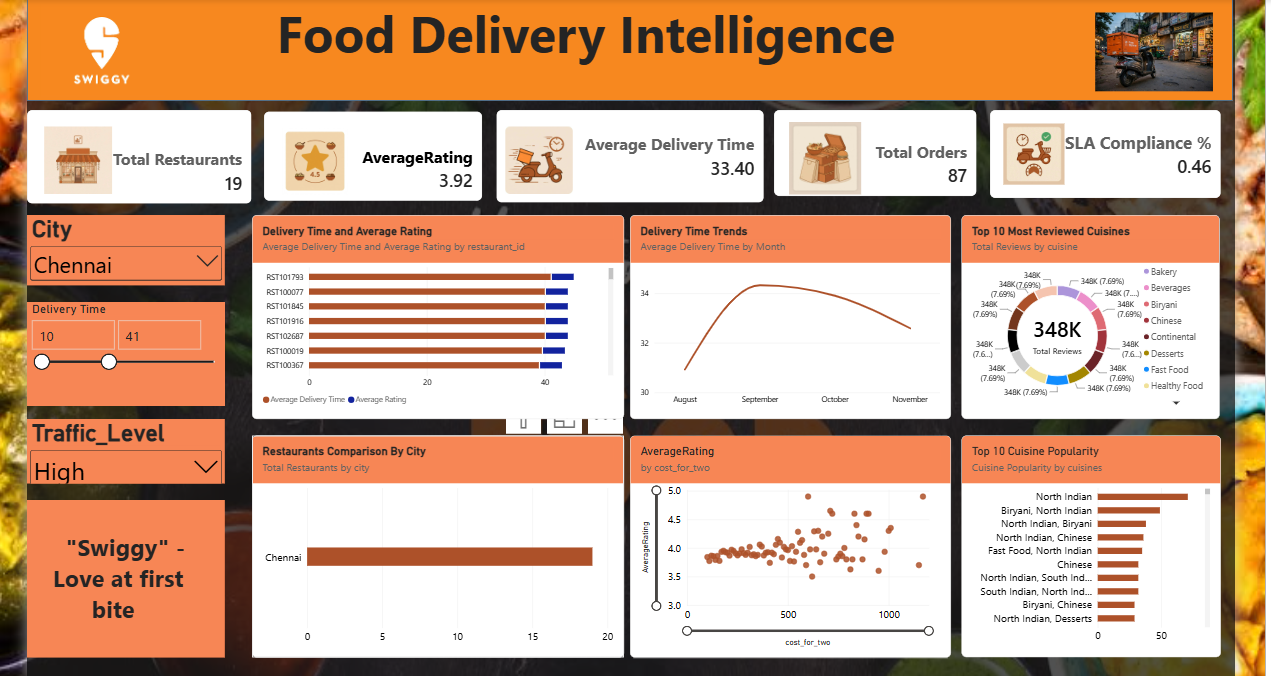

This screenshot's page, from the dashboard's own definition file:
{"tool":"powerbi","page":{"name":"Page 1","canvas":[1920,1080],"ordinal":0},"visuals":[{"type":"cardVisual","fields":{"Data":["swiggy_restaurants_clean.Total Restaurants"]},"box":[0,160,357.5,165],"z":0},{"type":"cardVisual","fields":{"Data":["swiggy_restaurants_clean.AverageRating"]},"box":[377.5,180,347.5,142.5],"z":1000},{"type":"cardVisual","fields":{"Data":["swiggy_orders_delivery_clean.Average Delivery Time"]},"box":[747.5,177.5,425,147.5],"z":2000},{"type":"cardVisual","fields":{"Data":["swiggy_orders_delivery_clean.SLA Compliance %"]},"box":[1532.5,177.5,367.5,140],"z":3000},{"type":"shape","box":[0,0,1918,162],"z":4000},{"type":"textbox","box":[0,796.9,314.9,250.5],"z":5000},{"type":"textbox","box":[0,0,1918,142],"z":7000},{"type":"image","box":[22.5,0,197.5,162.5],"z":8000},{"type":"image","box":[1667.5,22.5,250,125],"z":9000},{"type":"image","box":[0,202.5,162.5,107.5],"z":10000},{"type":"image","box":[405,197.5,105,120],"z":11000},{"type":"image","box":[747.5,202.5,135,107.5],"z":12000},{"type":"image","box":[1510,197.5,182.5,97.5],"z":13000},{"type":"cardVisual","fields":{"Data":["swiggy_orders_delivery_clean.Total Orders"]},"box":[1187.5,177.5,322.5,137.5],"z":14000},{"type":"image","box":[1187.5,195,162.5,115],"z":15000},{"type":"slicer","fields":{"Values":["swiggy_orders_delivery_clean.city"]},"box":[0,343.6,314.9,112.1],"z":16000},{"type":"slicer","fields":{"Values":["swiggy_orders_delivery_clean.delivery_time_min"]},"box":[0,482,314.9,164.6],"z":17000},{"type":"slicer","fields":{"Values":["swiggy_orders_delivery_clean.traffic_level"]},"box":[0,668.1,314.9,102.6],"z":18000},{"type":"textbox","box":[378,371,348,165],"z":19000},{"type":"clusteredBarChart","title":" Restaurants Comparison By City","fields":{"Category":["swiggy_orders_delivery_clean.city"],"Y":["swiggy_restaurants_clean.Total Restaurants"]},"box":[357.9,694.3,591.7,353.1],"z":20000},{"type":"lineChart","title":" Delivery Time Trends","fields":{"Category":["swiggy_orders_delivery_clean.order_timestamp.Variation.Date Hierarchy.Month"],"Y":["swiggy_orders_delivery_clean.Average Delivery Time"]},"box":[959.1,343.6,510.6,324.5],"z":21000},{"type":"donutChart","title":"Top 10 Most Reviewed Cuisines","fields":{"Category":["swiggy_orders_delivery_clean.cuisine"],"Y":["swiggy_restaurants_clean.Total Reviews"]},"box":[1486.4,343.6,410.4,324.5],"z":22000},{"type":"barChart","title":" Delivery Time and Average Rating","fields":{"Category":["swiggy_orders_delivery_clean.restaurant_id"],"Y":["swiggy_orders_delivery_clean.Average Delivery Time","swiggy_orders_delivery_clean.Average Rating"]},"box":[357.9,343.6,591.7,324.5],"z":23000},{"type":"scatterChart","fields":{"X":["swiggy_restaurants_clean.cost_for_two"],"Y":["swiggy_restaurants_clean.AverageRating"]},"box":[959.1,694.3,510.6,353.1],"z":24000},{"type":"clusteredBarChart","title":"Top 10 Cuisine Popularity","fields":{"Category":["swiggy_restaurants_clean.cuisines"],"Y":["swiggy_restaurants_clean.Cuisine Popularity"]},"box":[1487.5,695,412.5,352.5],"z":25000}]}

Visuals, with their boxes in screenshot pixels (x1, y1, x2, y2):
cardVisual - swiggy_restaurants_clean.Total Restaurants: l=17, t=92, r=245, b=198
cardVisual - swiggy_restaurants_clean.AverageRating: l=258, t=105, r=480, b=196
cardVisual - swiggy_orders_delivery_clean.Average Delivery Time: l=494, t=104, r=766, b=198
cardVisual - swiggy_orders_delivery_clean.SLA Compliance %: l=996, t=104, r=1231, b=193
shape: l=17, t=0, r=1243, b=94
textbox: l=17, t=499, r=218, b=660
textbox: l=17, t=0, r=1243, b=81
image: l=31, t=0, r=157, b=94
image: l=1082, t=4, r=1242, b=84
image: l=17, t=120, r=120, b=188
image: l=275, t=116, r=343, b=193
image: l=494, t=120, r=581, b=188
image: l=982, t=116, r=1098, b=179
cardVisual - swiggy_orders_delivery_clean.Total Orders: l=776, t=104, r=982, b=191
image: l=776, t=115, r=879, b=188
slicer - swiggy_orders_delivery_clean.city: l=17, t=210, r=218, b=281
slicer - swiggy_orders_delivery_clean.delivery_time_min: l=17, t=298, r=218, b=403
slicer - swiggy_orders_delivery_clean.traffic_level: l=17, t=417, r=218, b=483
textbox: l=258, t=227, r=481, b=333
" Restaurants Comparison By City" clusteredBarChart: l=245, t=434, r=624, b=660
" Delivery Time Trends" lineChart: l=630, t=210, r=956, b=417
"Top 10 Most Reviewed Cuisines" donutChart: l=967, t=210, r=1229, b=417
" Delivery Time and Average Rating" barChart: l=245, t=210, r=624, b=417
scatterChart - swiggy_restaurants_clean.cost_for_two x swiggy_restaurants_clean.AverageRating: l=630, t=434, r=956, b=660
"Top 10 Cuisine Popularity" clusteredBarChart: l=967, t=434, r=1231, b=660
